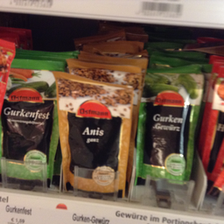spices: (51, 70, 132, 197), (134, 65, 204, 186), (1, 57, 64, 185)
